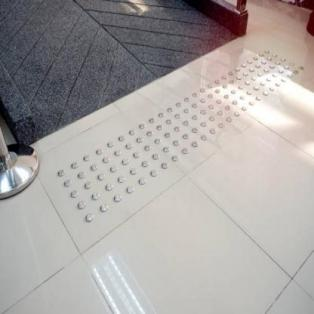Podoctatil: (55, 45, 307, 225)
